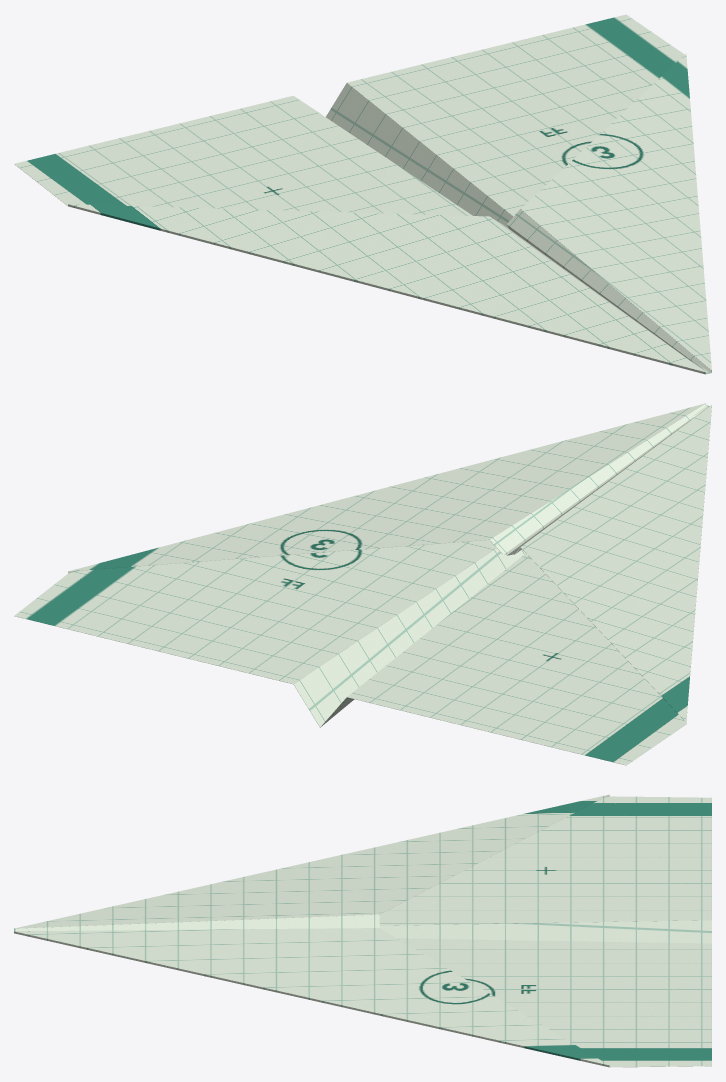
File: Avion_Brisa.fbx
3 renders of one model, top to bottom at view 1: azimuth 30°, elevation 25°; view 2: azimuth 150°, elevation 25°; view 3: azimuth 270°, elevation 25°, orthographic. The views are drawn at different scales.
Parts seen in each view (by area): view 1: Avion_Brisa; view 2: Avion_Brisa; view 3: Avion_Brisa.
Boxes of the visible parts, box(x1,y1,x2,y2) form: Avion_Brisa: box(14, 14, 711, 374); Avion_Brisa: box(14, 403, 711, 765); Avion_Brisa: box(14, 794, 711, 1067).
Size of the model in its own units: 24.57 by 1.86 by 26.73.
Materials: 1 (1 with a texture image).
